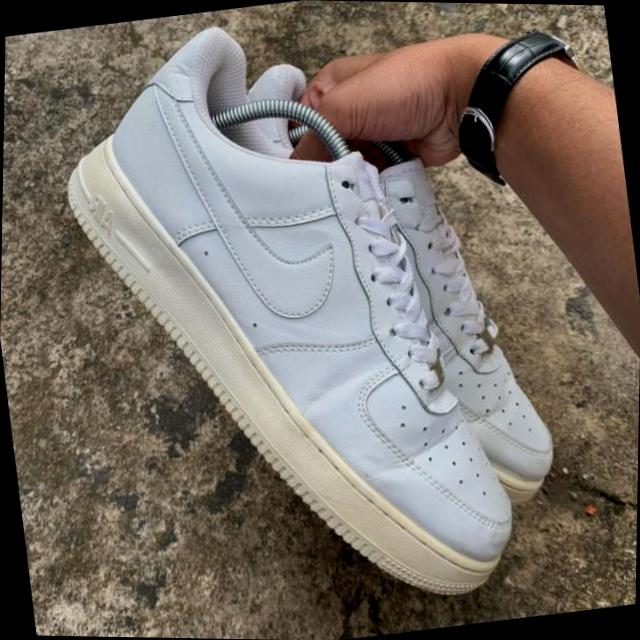nike_fake_airforce: (35, 0, 546, 640), (316, 139, 567, 525)
